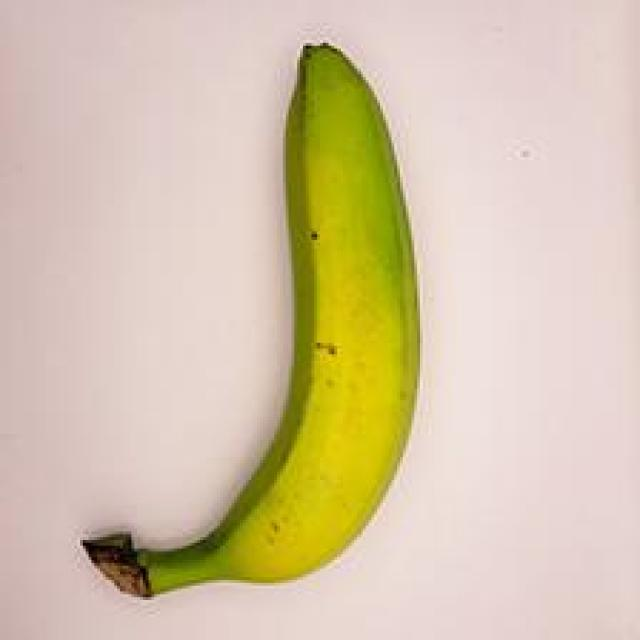Unripe: (50, 21, 448, 608)
